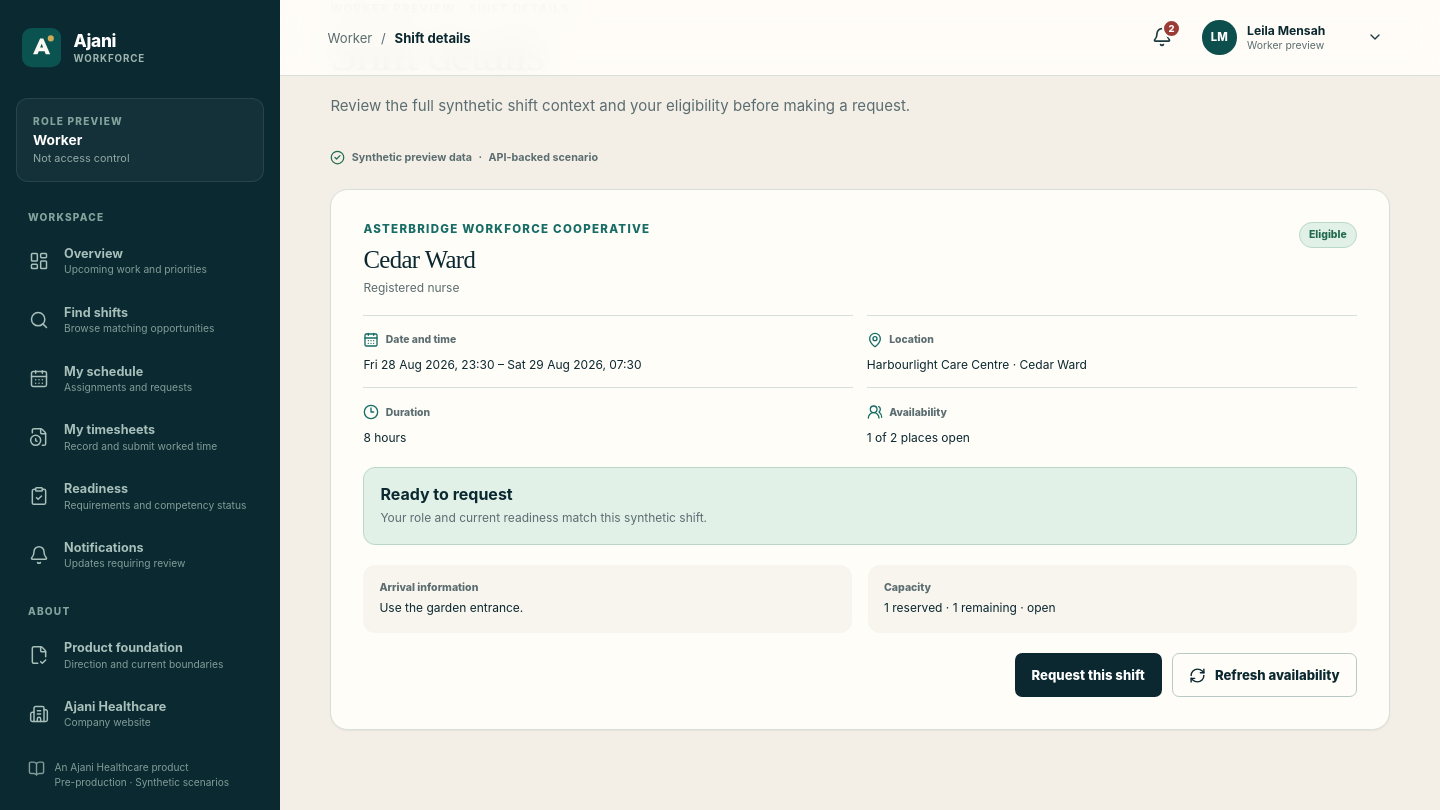
Test case: worker shift journey › opens a direct detail route and restores focus when confirmation is dismissed
(page scrolled)
Click the button "Request this shift". click: (1088,675)
box: [1014, 653, 1162, 697]
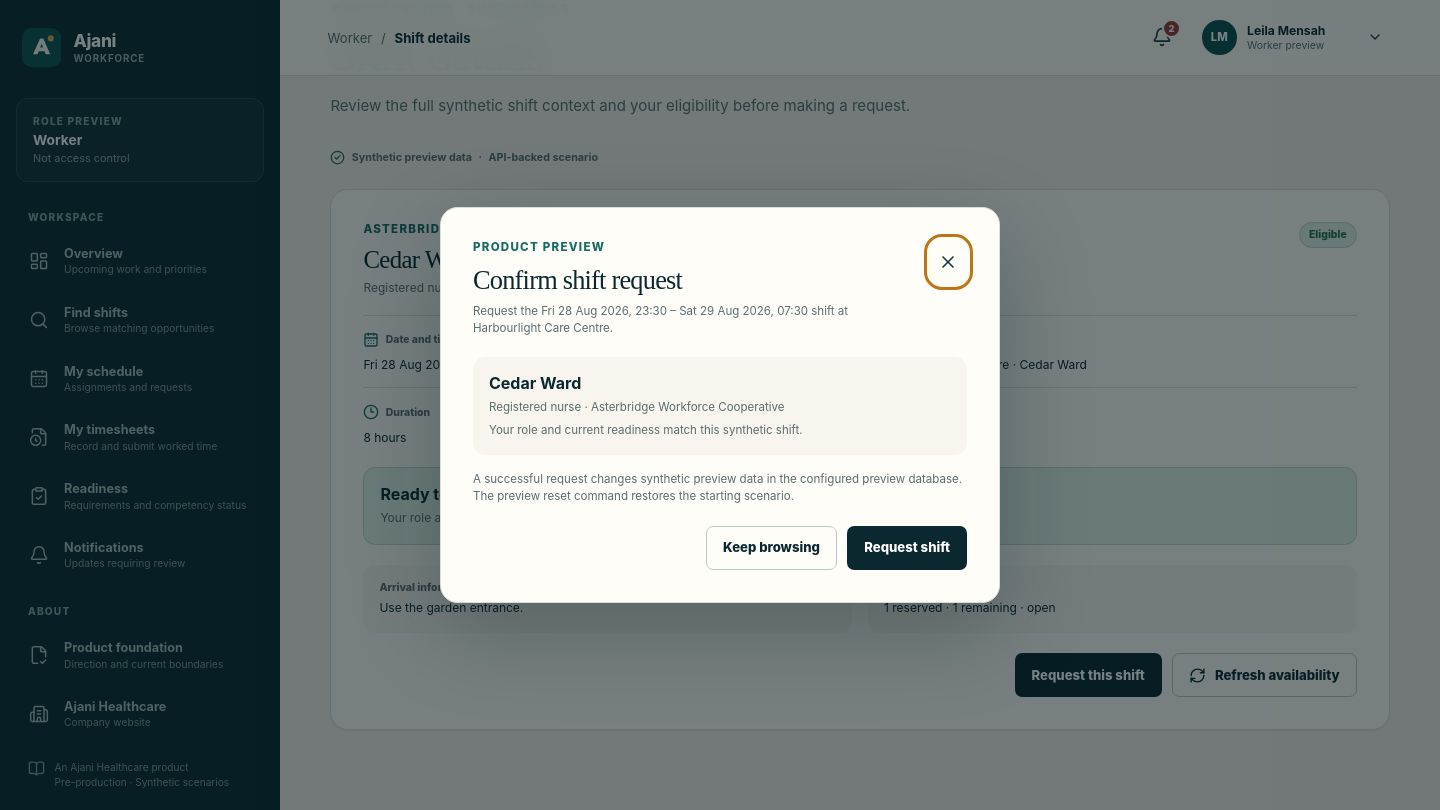
Expected: the dialog "Confirm shift request" shows "Fri 28 Aug 2026, 23:30 – Sat 29 Aug 2026, 07:30", [473, 304, 848, 335]
Press Escape
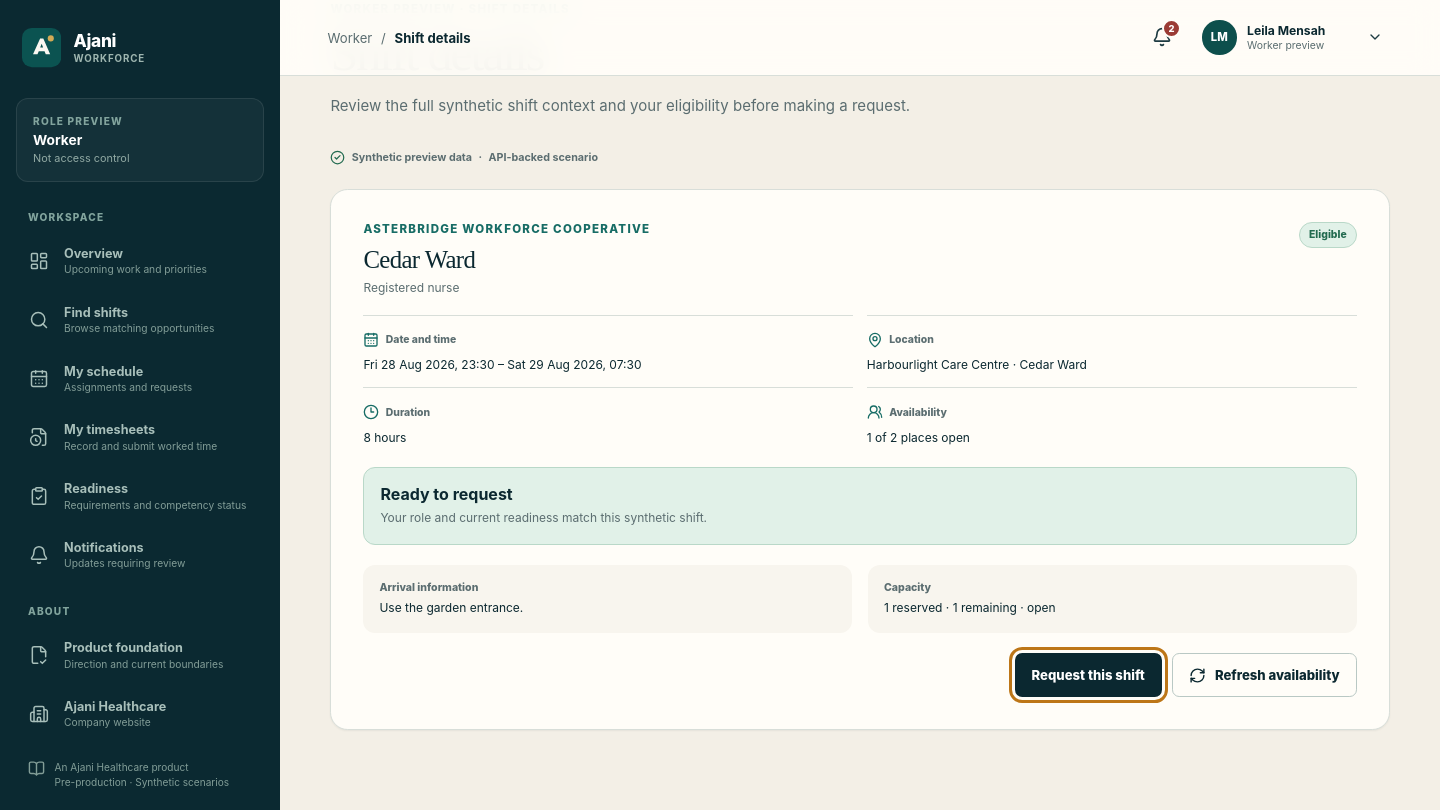
Expected: the heading "Confirm shift request" is gone
